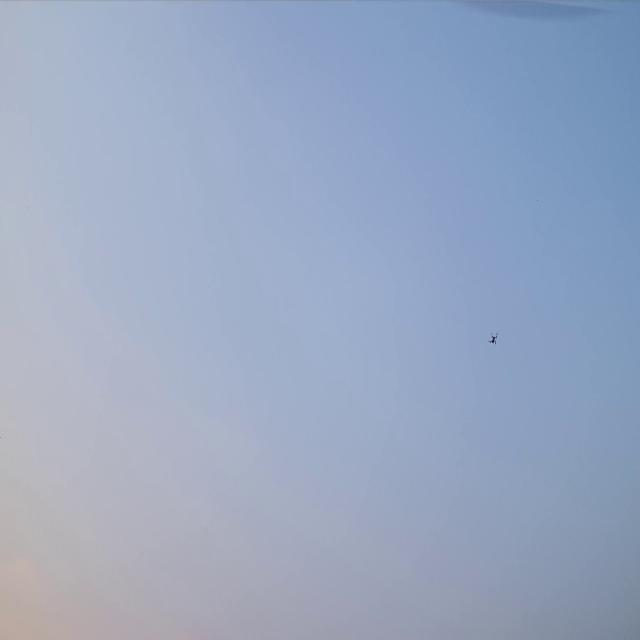UAV: (488, 330, 498, 347)
